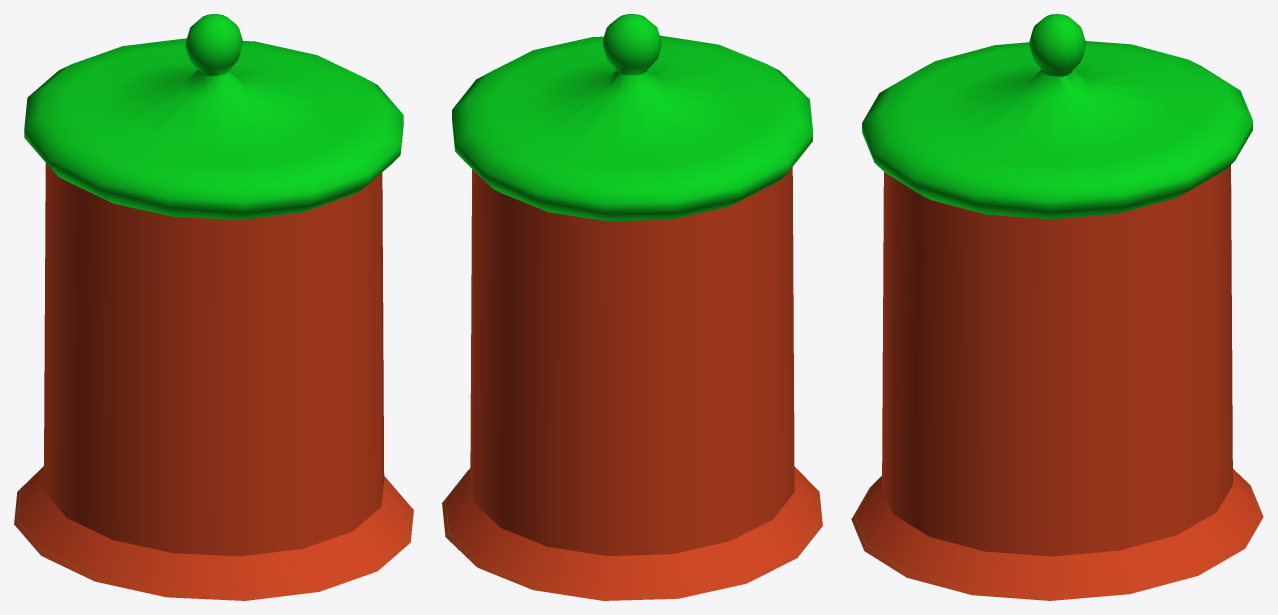
File: Jar with Donut Brain.fbx
3 views of the same model, side by side, from view 1: azimuth 30°, elevation 25°; view 2: azimuth 150°, elevation 25°; view 3: azimuth 270°, elevation 25° (orthographic).
Parts seen in each view (by area): view 1: Cylinder; view 2: Cylinder; view 3: Cylinder.
Part boxes in pixels (bbox=[...]): Cylinder: bbox=[14, 14, 413, 600]; Cylinder: bbox=[442, 14, 822, 600]; Cylinder: bbox=[851, 14, 1263, 600].
Size of the model in its own units: 52.57 by 74.54 by 55.35.
